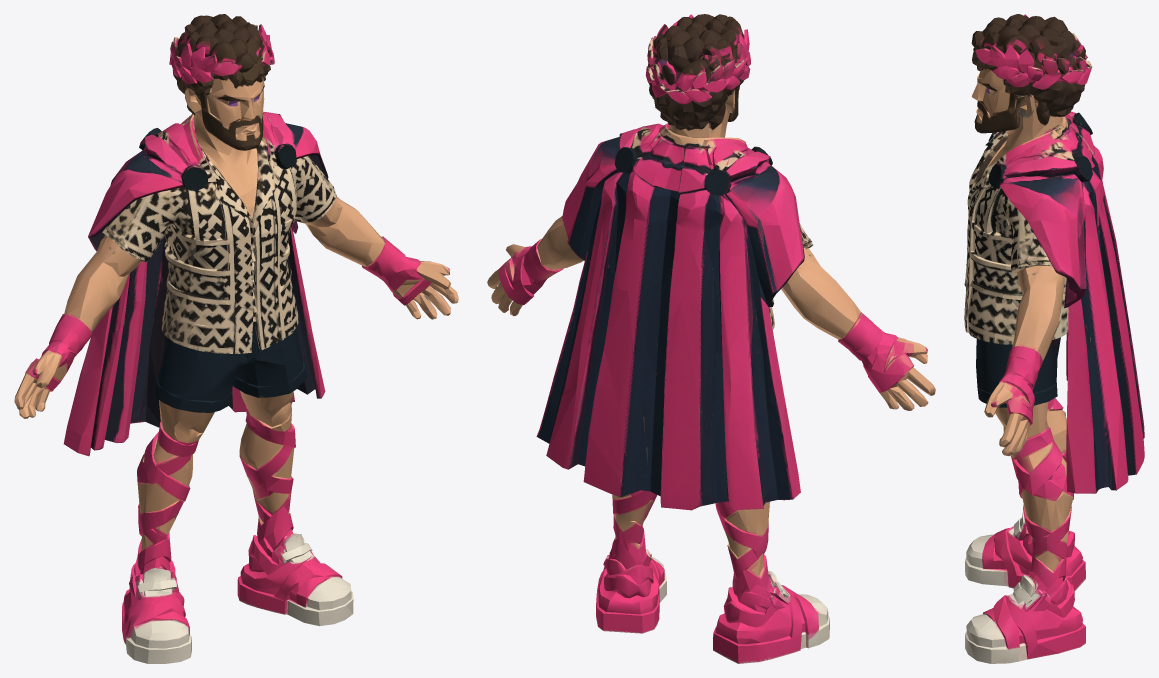
The picture shows the model from 3 angles, left to right: view 1: azimuth 30°, elevation 25°; view 2: azimuth 150°, elevation 25°; view 3: azimuth 270°, elevation 25°; orthographic projection. The views are drawn at different scales.
Bounding box in the file's own units: 1.47 × 1.9 × 0.5282.
Materials: 1 (1 with a texture image).
